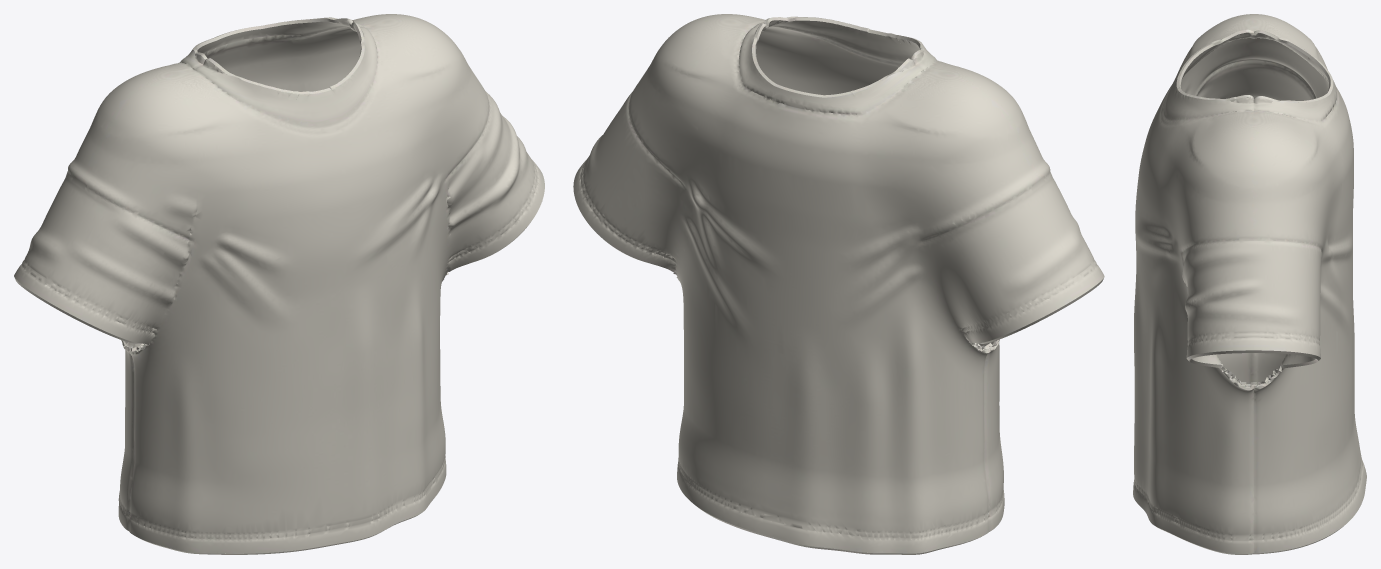
File: 04_camiseta_boxy_pbr.glb
The picture shows the model from 3 angles, left to right: view 1: azimuth 30°, elevation 25°; view 2: azimuth 150°, elevation 25°; view 3: azimuth 270°, elevation 25°; orthographic projection. The views are drawn at different scales.
Parts seen in each view (by area): view 1: Camiseta PBR; view 2: Camiseta PBR; view 3: Camiseta PBR.
Part boxes in pixels (x1,y1,x2,y2): Camiseta PBR: [14, 14, 544, 554]; Camiseta PBR: [573, 14, 1104, 554]; Camiseta PBR: [1133, 14, 1366, 554].
Size of the model in its own units: 0.7388 by 0.6378 by 0.3174.
1 material, 1 textured.
